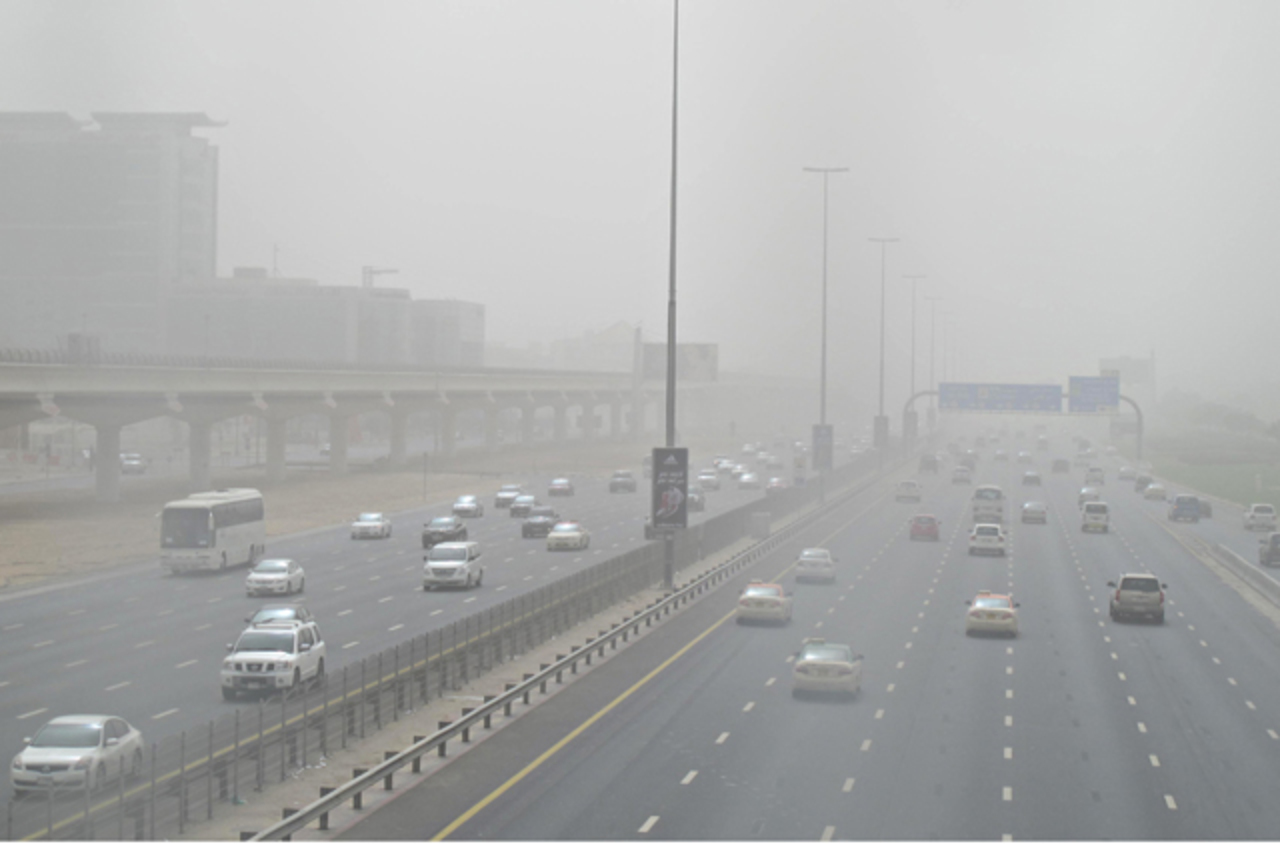bus: (157, 485, 265, 576)
car: (14, 712, 148, 788), (224, 613, 330, 696), (789, 640, 864, 701), (1109, 572, 1167, 625), (422, 543, 483, 592), (737, 581, 792, 626), (246, 556, 306, 596), (965, 593, 1019, 637), (794, 547, 836, 583), (968, 524, 1006, 555), (970, 487, 1006, 519), (1240, 503, 1275, 531), (547, 524, 586, 549), (348, 514, 387, 538), (421, 519, 463, 541), (1081, 500, 1107, 533), (1166, 498, 1198, 522), (912, 515, 942, 539), (451, 495, 482, 517), (524, 512, 551, 537), (609, 470, 635, 494), (1259, 531, 1276, 567), (697, 470, 721, 493), (546, 477, 573, 497), (686, 484, 704, 514), (120, 455, 143, 476), (1021, 503, 1045, 521), (894, 482, 918, 500), (511, 494, 532, 514), (640, 453, 653, 483), (1083, 469, 1104, 485), (1143, 487, 1168, 500), (496, 487, 513, 506), (1050, 458, 1069, 475), (740, 473, 757, 490), (1118, 465, 1136, 481), (951, 468, 969, 483), (1022, 473, 1041, 486), (767, 478, 785, 491), (1136, 477, 1149, 491)
